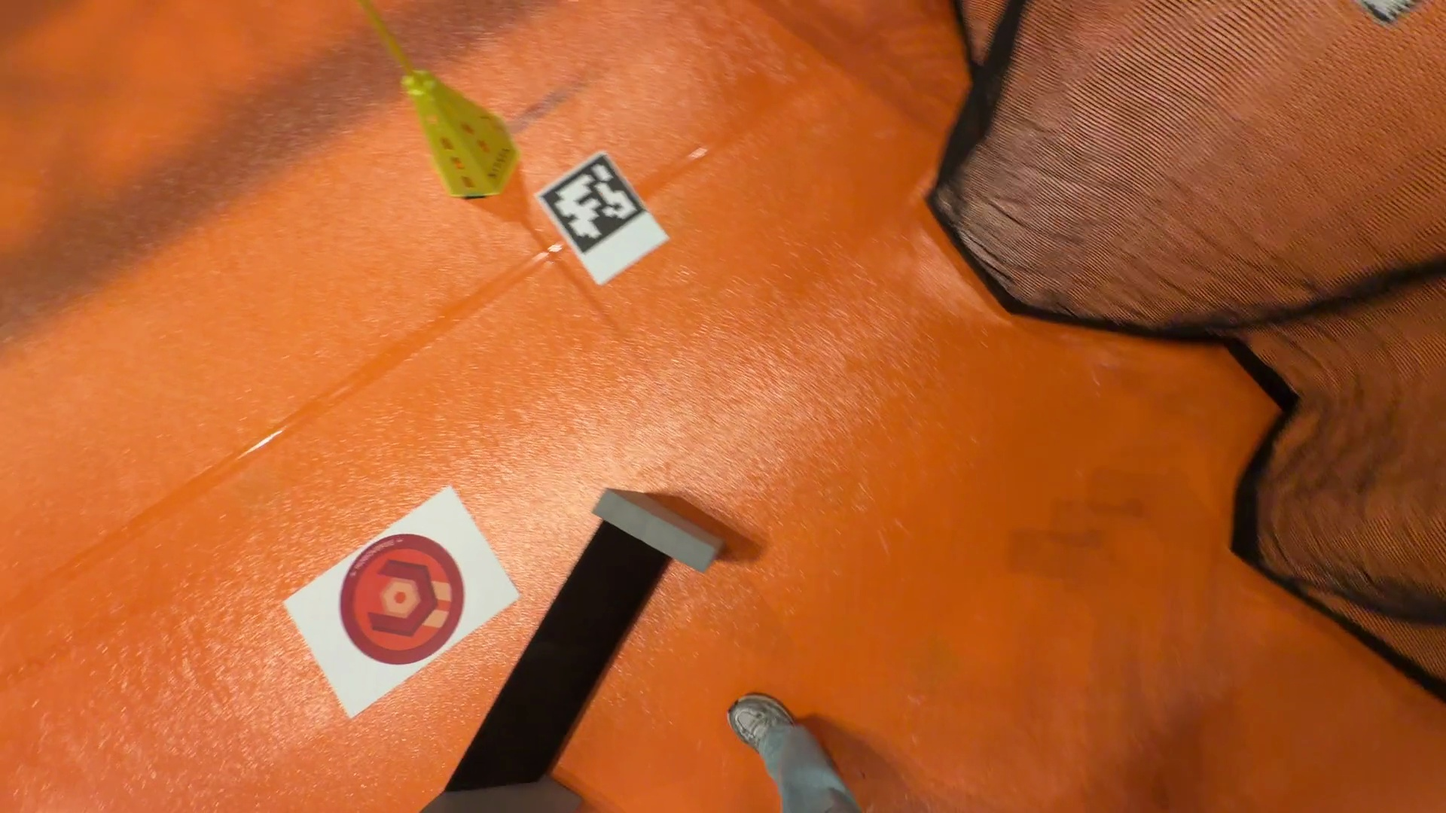landing_pad: (335, 530, 472, 667)
